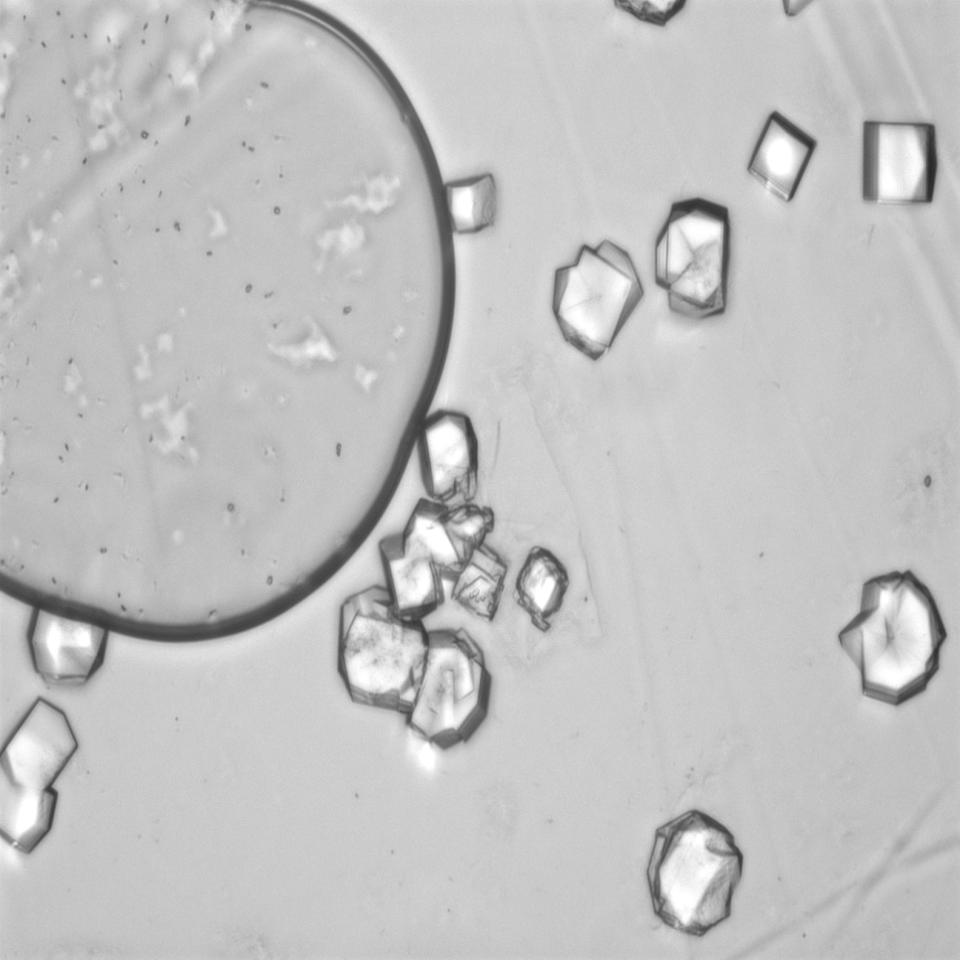crystal: (828, 554, 946, 731), (643, 798, 745, 940), (648, 186, 742, 332), (552, 231, 649, 369), (339, 584, 426, 719), (17, 596, 113, 690), (858, 112, 938, 213), (750, 99, 818, 205), (420, 403, 484, 506), (513, 539, 567, 629), (444, 169, 501, 237)
